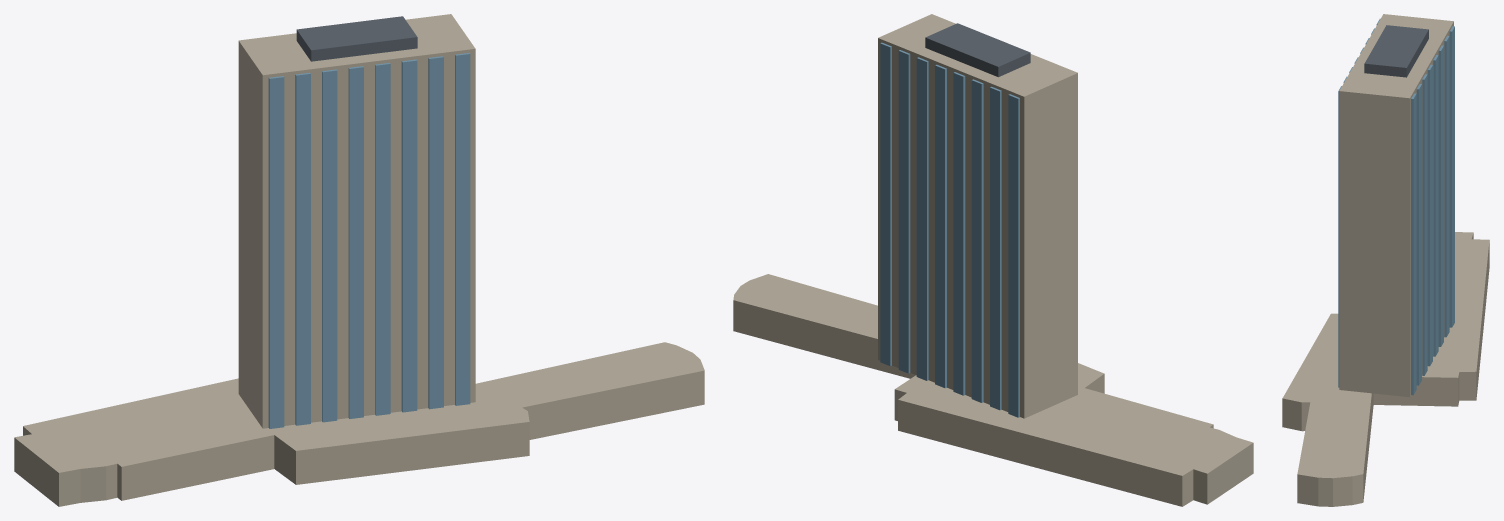
Rendered from federal-reserve-bank-of-richmond.glb.
The picture shows the model from 3 angles, left to right: view 1: azimuth 30°, elevation 25°; view 2: azimuth 150°, elevation 25°; view 3: azimuth 270°, elevation 25°; orthographic projection. The views are drawn at different scales.
Parts seen in each view (by area): view 1: body, tower, federal-reserve-bank-of-richmond_6, federal-reserve-bank-of-richmond_16, federal-reserve-bank-of-richmond_4, federal-reserve-bank-of-richmond_8, federal-reserve-bank-of-richmond_12, federal-reserve-bank-of-richmond_14, federal-reserve-bank-of-richmond_2, federal-reserve-bank-of-richmond_10, federal-reserve-bank-of-richmond_18; view 2: tower, body, federal-reserve-bank-of-richmond_11, federal-reserve-bank-of-richmond_13, federal-reserve-bank-of-richmond_5, federal-reserve-bank-of-richmond_7, federal-reserve-bank-of-richmond_3, federal-reserve-bank-of-richmond_15, federal-reserve-bank-of-richmond_9, federal-reserve-bank-of-richmond_17, federal-reserve-bank-of-richmond_18; view 3: tower, body, federal-reserve-bank-of-richmond_18, federal-reserve-bank-of-richmond_3, federal-reserve-bank-of-richmond_11, federal-reserve-bank-of-richmond_15, federal-reserve-bank-of-richmond_5, federal-reserve-bank-of-richmond_7, federal-reserve-bank-of-richmond_9, federal-reserve-bank-of-richmond_13, federal-reserve-bank-of-richmond_17, federal-reserve-bank-of-richmond_2.
Part boxes in pixels (x1,y1,x2,y2): body: (14, 342, 704, 506); tower: (238, 14, 475, 428); federal-reserve-bank-of-richmond_6: (401, 59, 417, 412); federal-reserve-bank-of-richmond_16: (268, 76, 284, 428); federal-reserve-bank-of-richmond_4: (428, 56, 443, 409); federal-reserve-bank-of-richmond_8: (375, 62, 390, 415); federal-reserve-bank-of-richmond_12: (322, 69, 337, 422); federal-reserve-bank-of-richmond_14: (295, 72, 310, 425); federal-reserve-bank-of-richmond_2: (455, 53, 470, 405); federal-reserve-bank-of-richmond_10: (348, 66, 363, 418); federal-reserve-bank-of-richmond_18: (296, 16, 417, 61); tower: (878, 14, 1077, 418); body: (733, 274, 1253, 506); federal-reserve-bank-of-richmond_11: (953, 72, 965, 395); federal-reserve-bank-of-richmond_13: (971, 79, 983, 402); federal-reserve-bank-of-richmond_5: (898, 50, 910, 373); federal-reserve-bank-of-richmond_7: (916, 57, 928, 380); federal-reserve-bank-of-richmond_3: (880, 42, 891, 366); federal-reserve-bank-of-richmond_15: (990, 86, 1001, 410); federal-reserve-bank-of-richmond_9: (935, 64, 946, 388); federal-reserve-bank-of-richmond_17: (1008, 94, 1019, 417); federal-reserve-bank-of-richmond_18: (925, 23, 1030, 77); tower: (1339, 14, 1453, 397); body: (1282, 232, 1489, 506); federal-reserve-bank-of-richmond_18: (1364, 25, 1428, 77); federal-reserve-bank-of-richmond_3: (1411, 93, 1416, 395); federal-reserve-bank-of-richmond_11: (1433, 55, 1438, 356); federal-reserve-bank-of-richmond_15: (1444, 35, 1449, 337); federal-reserve-bank-of-richmond_5: (1416, 84, 1421, 385); federal-reserve-bank-of-richmond_7: (1422, 74, 1427, 375); federal-reserve-bank-of-richmond_9: (1427, 64, 1432, 366); federal-reserve-bank-of-richmond_13: (1438, 45, 1443, 346); federal-reserve-bank-of-richmond_17: (1449, 26, 1454, 327); federal-reserve-bank-of-richmond_2: (1338, 86, 1341, 387).
Size of the model in its own units: 193 by 123 by 68.42.
